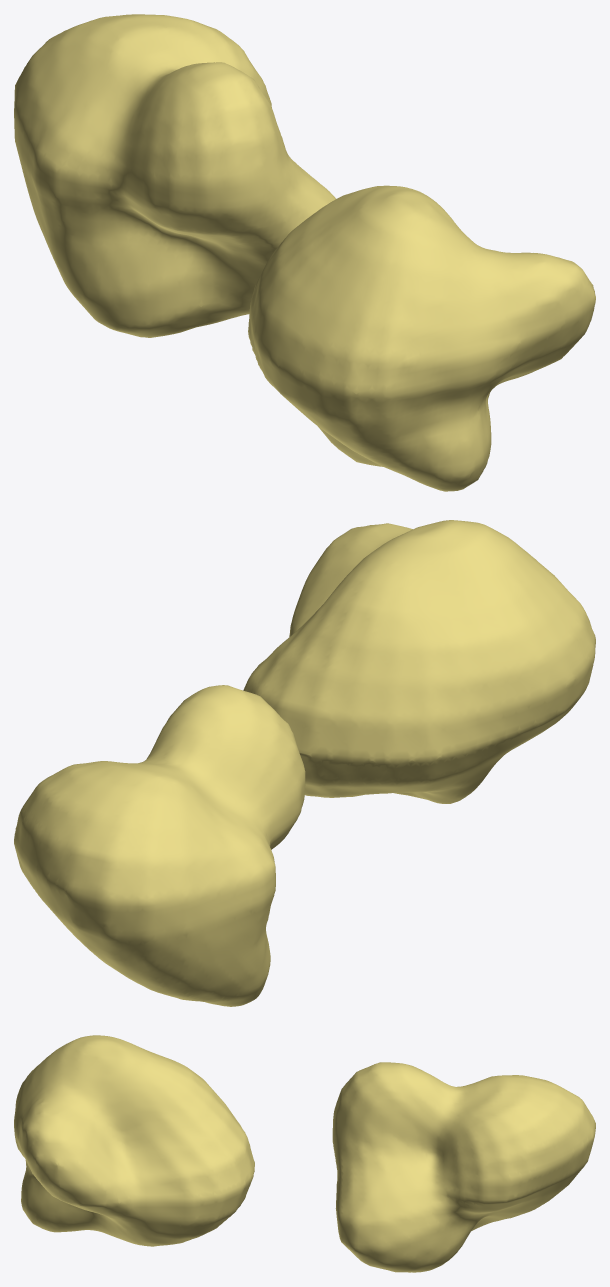
File: amoeba  fbx.fbx
3 renders of one model, top to bottom at view 1: azimuth 30°, elevation 25°; view 2: azimuth 150°, elevation 25°; view 3: azimuth 270°, elevation 25°, orthographic. The views are drawn at different scales.
Parts seen in each view (by area): view 1: Sphere; view 2: Sphere; view 3: Sphere.
Boxes of the visible parts, x1,y1,x2,y2 form: Sphere: (14,14,595,491); Sphere: (14,520,595,1006); Sphere: (14,1035,595,1272).
Bounding box in the file's own units: 243 × 239 × 602.
